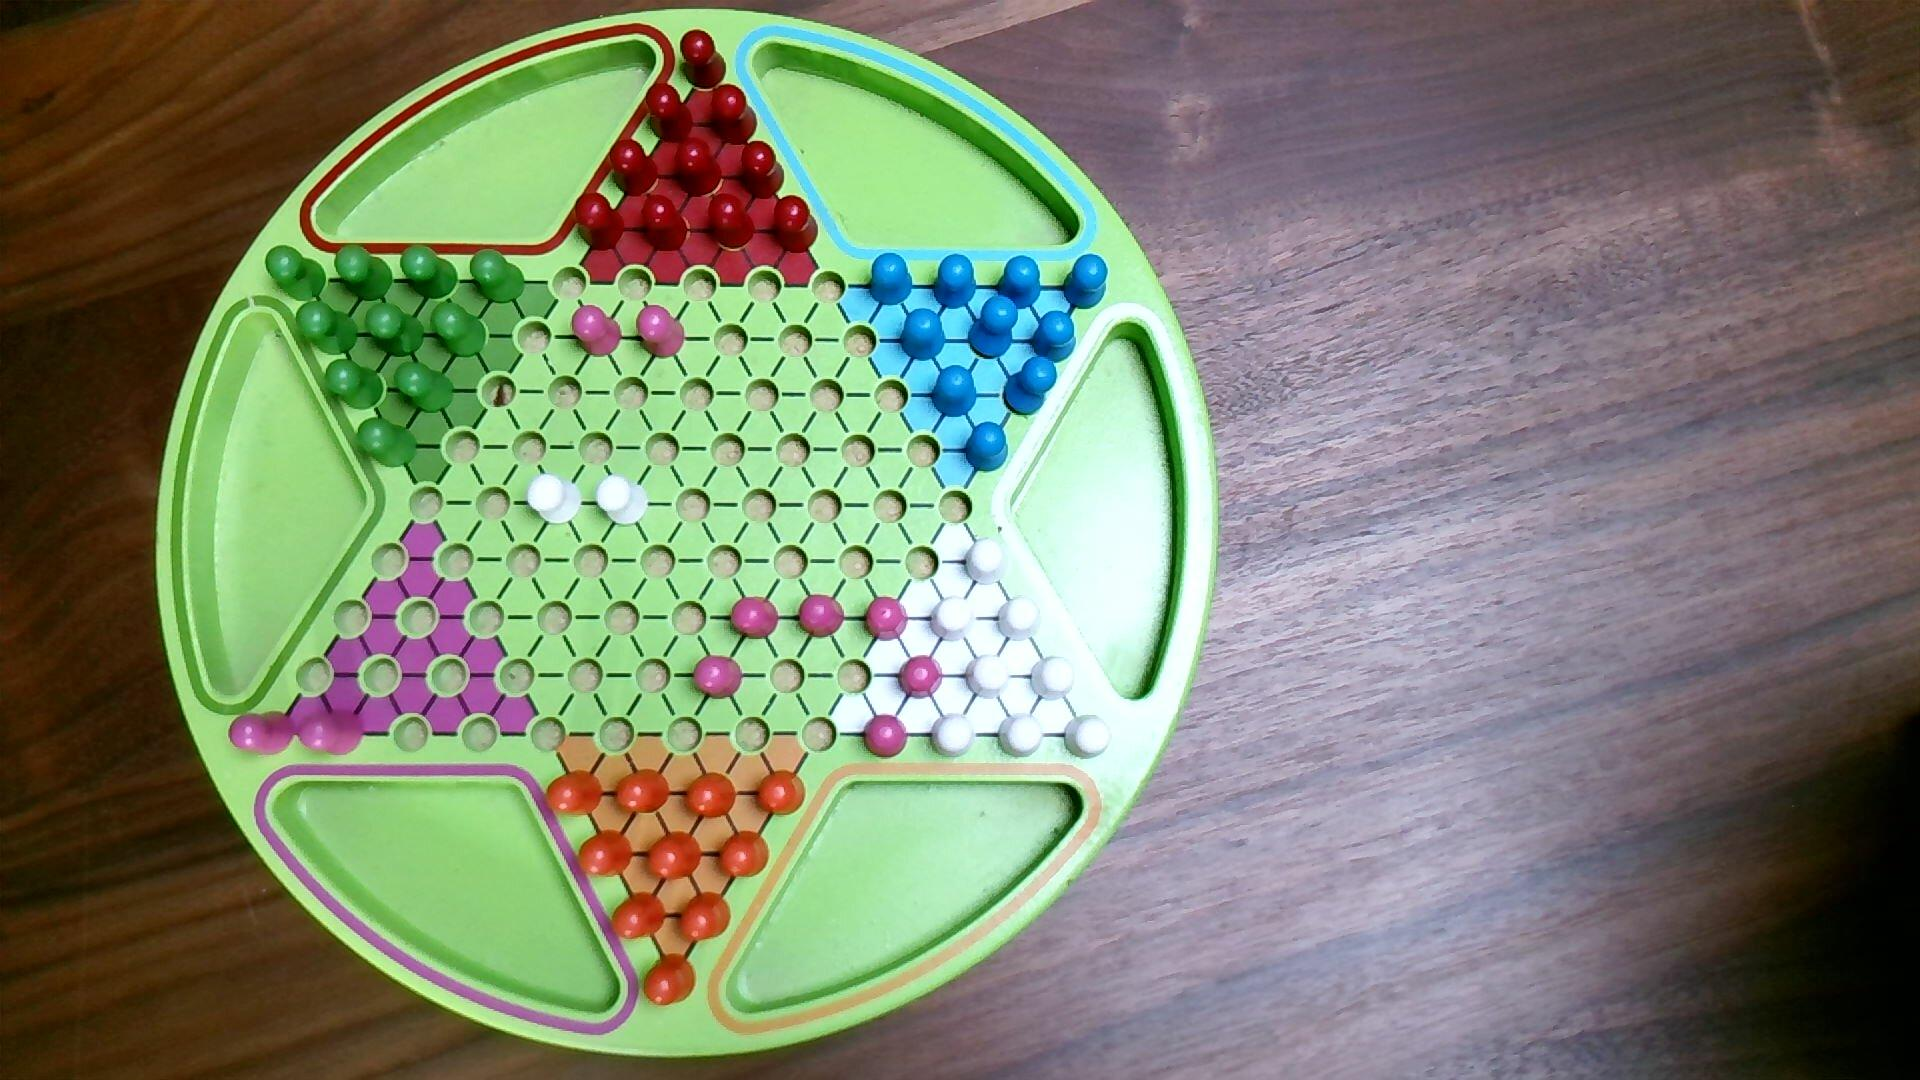B: (1004, 353, 1059, 419), (969, 293, 1021, 360), (866, 251, 916, 309), (1063, 253, 1112, 313), (996, 255, 1044, 313), (931, 252, 978, 311), (901, 307, 948, 363), (965, 419, 1011, 473), (1033, 309, 1079, 363), (934, 364, 978, 419)
G: (295, 299, 361, 359), (265, 243, 328, 303), (334, 243, 396, 303), (430, 299, 489, 361), (365, 301, 427, 360), (400, 240, 459, 301), (394, 359, 458, 414), (357, 415, 419, 471), (324, 357, 386, 413), (469, 248, 527, 305)
O: (647, 829, 705, 884), (644, 953, 699, 1009), (578, 828, 636, 880), (545, 769, 605, 818), (611, 891, 669, 942), (679, 890, 733, 943), (616, 769, 673, 818), (684, 771, 738, 822), (719, 829, 771, 880), (757, 769, 808, 819)
R: (574, 190, 626, 253), (679, 25, 729, 91), (637, 193, 690, 255), (609, 135, 659, 199), (671, 137, 723, 199), (645, 80, 695, 144), (709, 83, 760, 145), (773, 193, 822, 253), (740, 138, 787, 200), (708, 193, 758, 251)
R2: (298, 705, 368, 760), (228, 709, 297, 758), (570, 301, 624, 360), (636, 303, 687, 360), (691, 651, 746, 702), (731, 595, 782, 642), (898, 653, 947, 702), (862, 711, 910, 761), (798, 592, 847, 640), (865, 593, 910, 644)
W: (526, 473, 585, 527), (596, 473, 650, 527), (928, 595, 980, 644), (1063, 712, 1114, 760), (996, 595, 1044, 644), (998, 711, 1047, 760), (1030, 653, 1077, 703), (928, 713, 978, 760), (965, 537, 1010, 588), (967, 651, 1011, 702)
